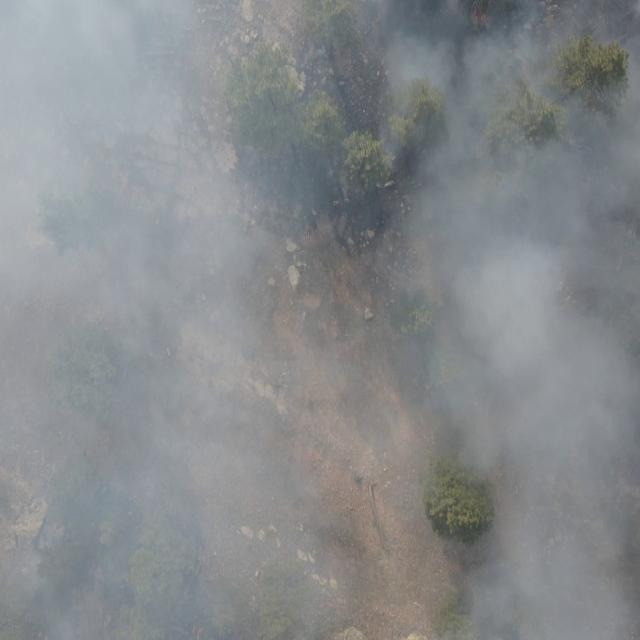fire: (470, 0, 489, 30), (369, 2, 389, 30), (188, 622, 208, 640)
smoke: (0, 0, 640, 640)
